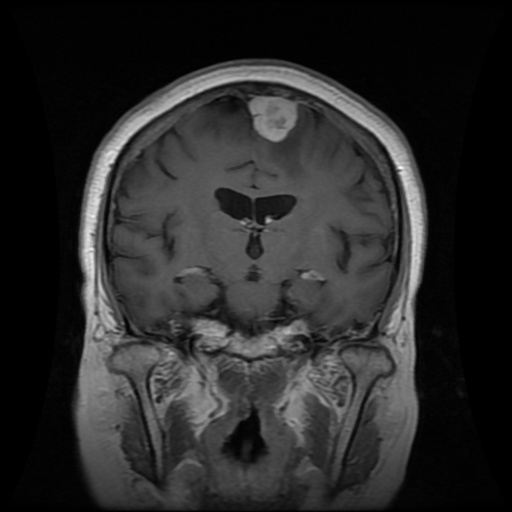meningioma: (248, 95, 297, 141)
